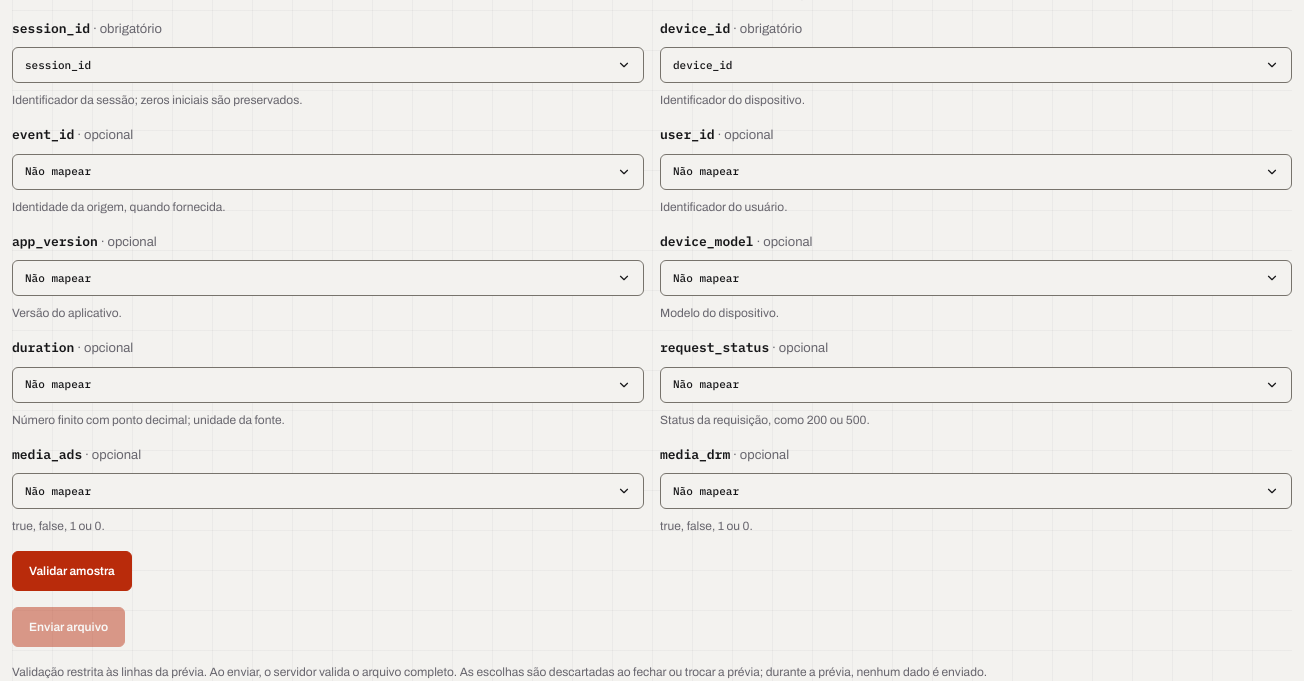
Test: formulário de mapeamento › sugere os nomes iguais e aprova somente a amostra
(page scrolled)
Check: the dropdown labelled "session_id" is shown, box [12,47,644,83]
What coordinates should you click on to do the following:
click the button "Validar amostra"
I would click on:
 (72, 571)
Its box is [12,551,132,591].
(page scrolled)
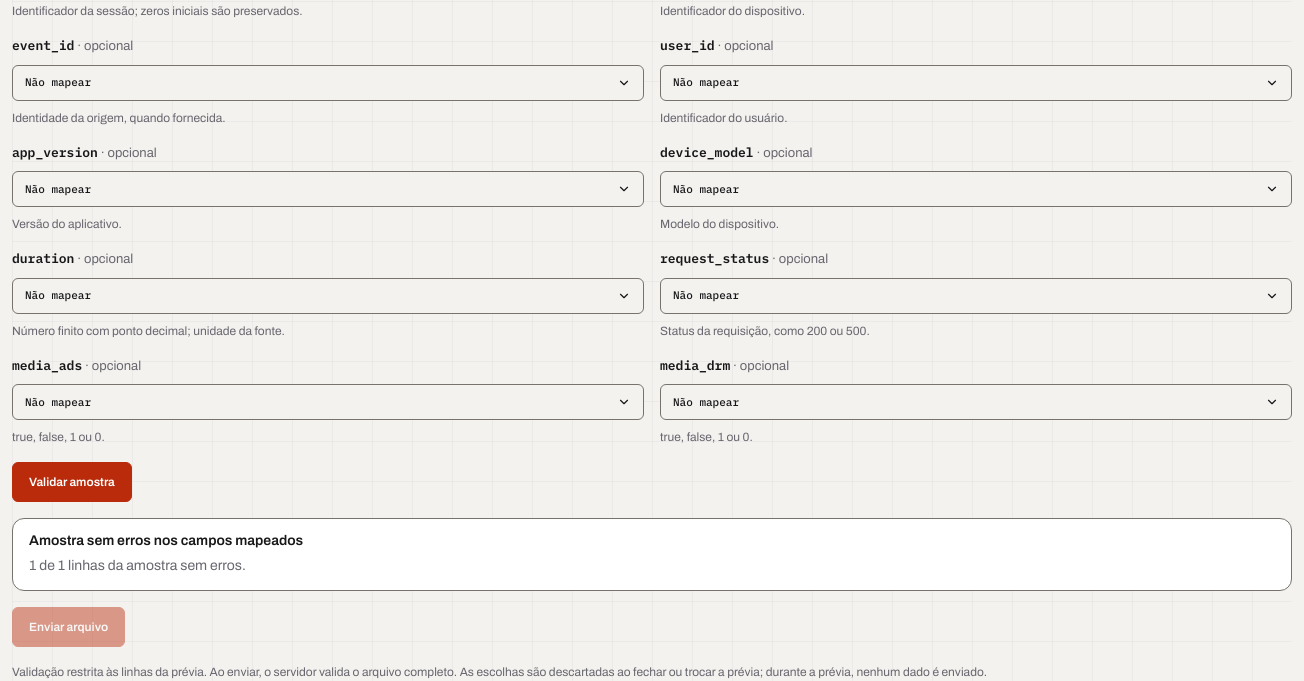
Check: the text "nenhum dado é enviado" is shown, box [12,665,987,679]
Check: the message shows "Amostra sem erros nos campos mapeados", box [29,533,303,548]
Check: the message shows "1 de 1 linhas", box [12,518,1292,591]
